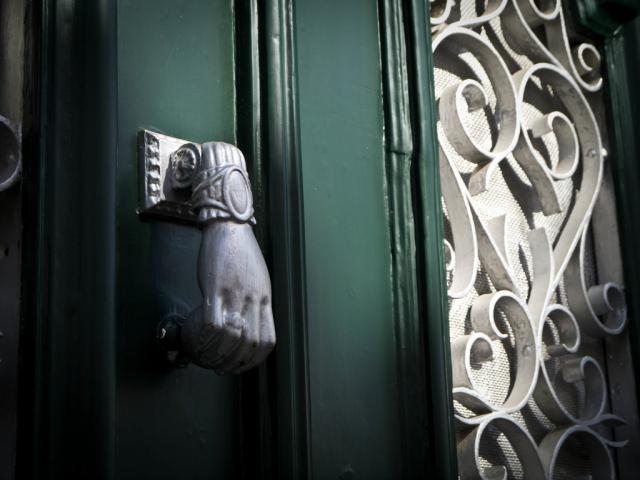Door-handle: (131, 124, 281, 381)
